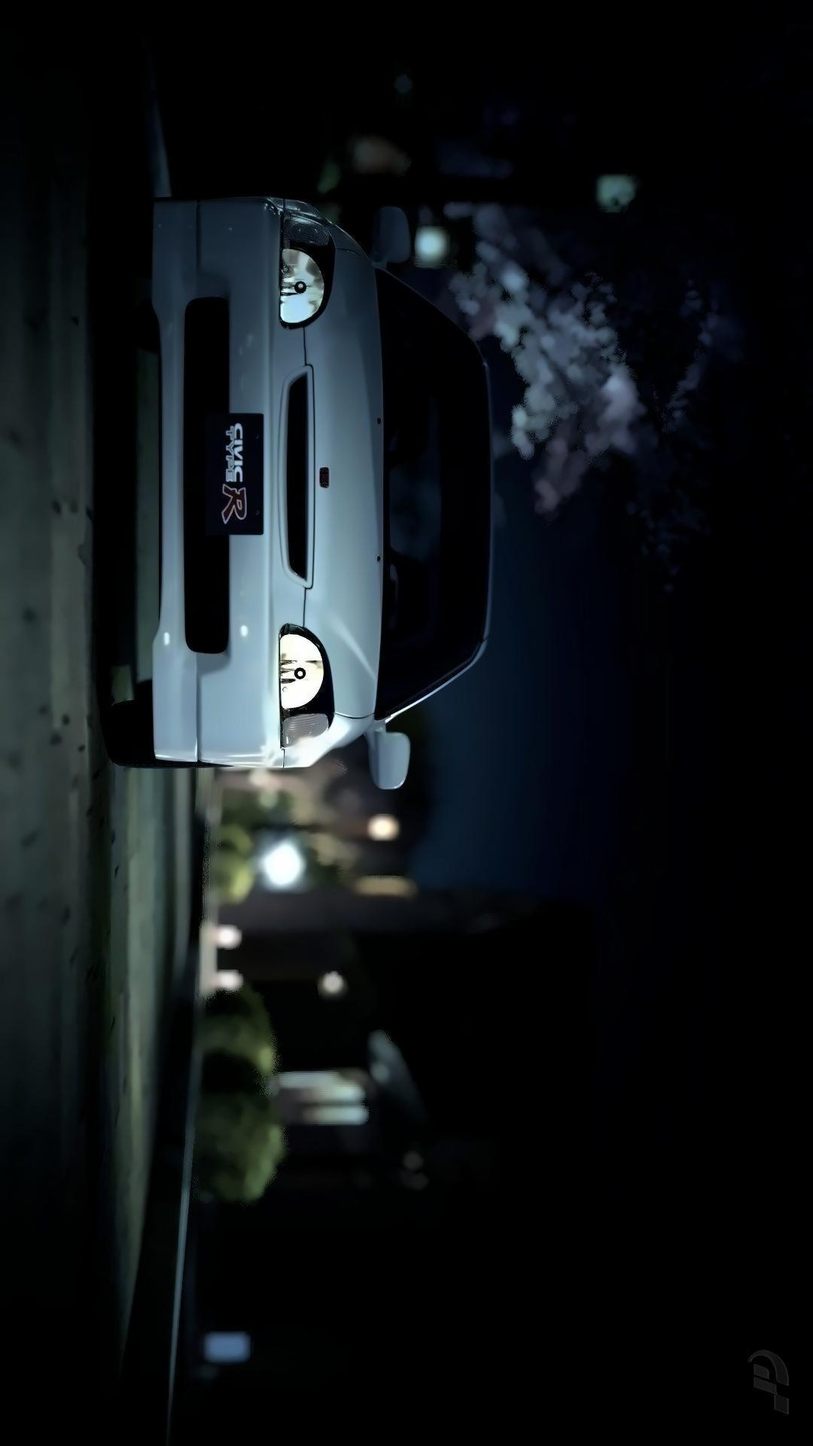Car hood: (299, 235, 382, 723)
Front bumper: (130, 187, 277, 778)
Headlight - -L-: (273, 616, 344, 761)
Headlight - -R-: (262, 190, 346, 333)
Side mirror - -L-: (350, 712, 433, 809)
Side mirror - -R-: (360, 196, 430, 273)
